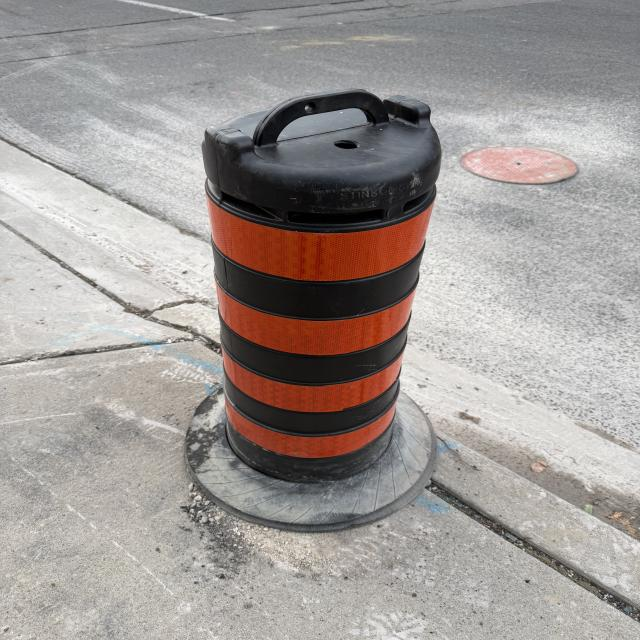Teraffic Barrel: (187, 90, 440, 530)
